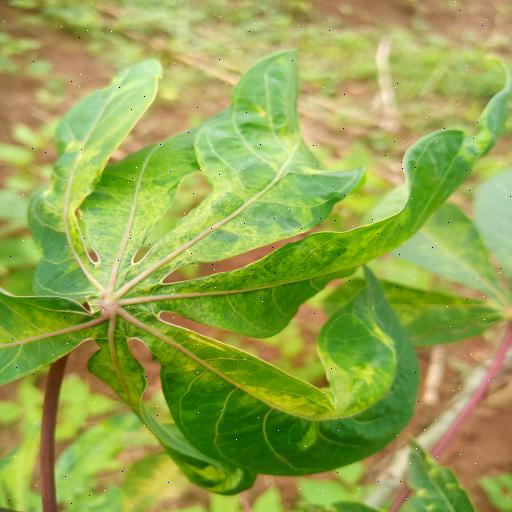Cassava_Mosaic: (2, 55, 481, 477)
